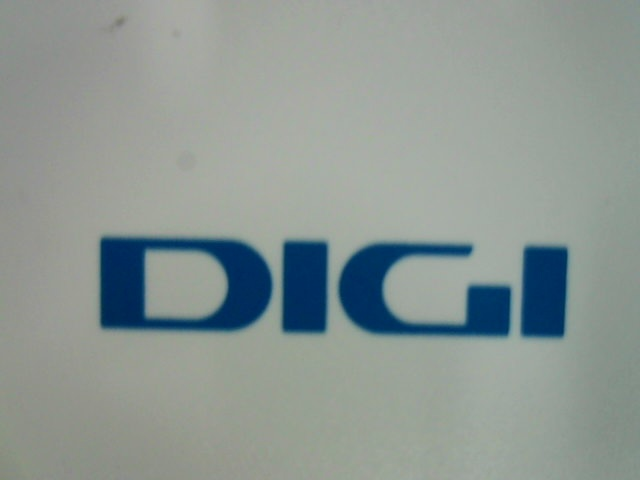BL_DIGI: (81, 212, 571, 339)
